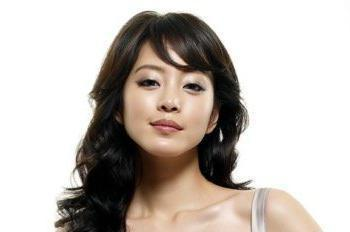Sober: (126, 48, 212, 148)
